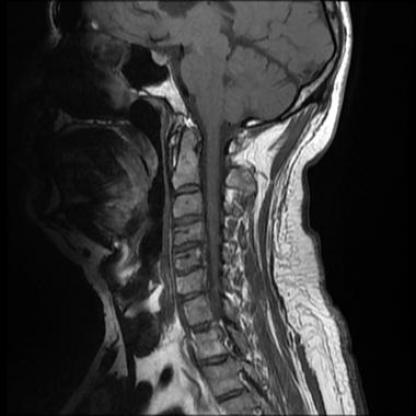Disc Protrusionrotation: (175, 287, 211, 303), (170, 239, 207, 254), (170, 213, 206, 227), (171, 263, 209, 276)
Osteophytesrotation: (175, 287, 211, 303), (170, 239, 207, 254), (170, 213, 206, 227), (171, 263, 209, 276)
